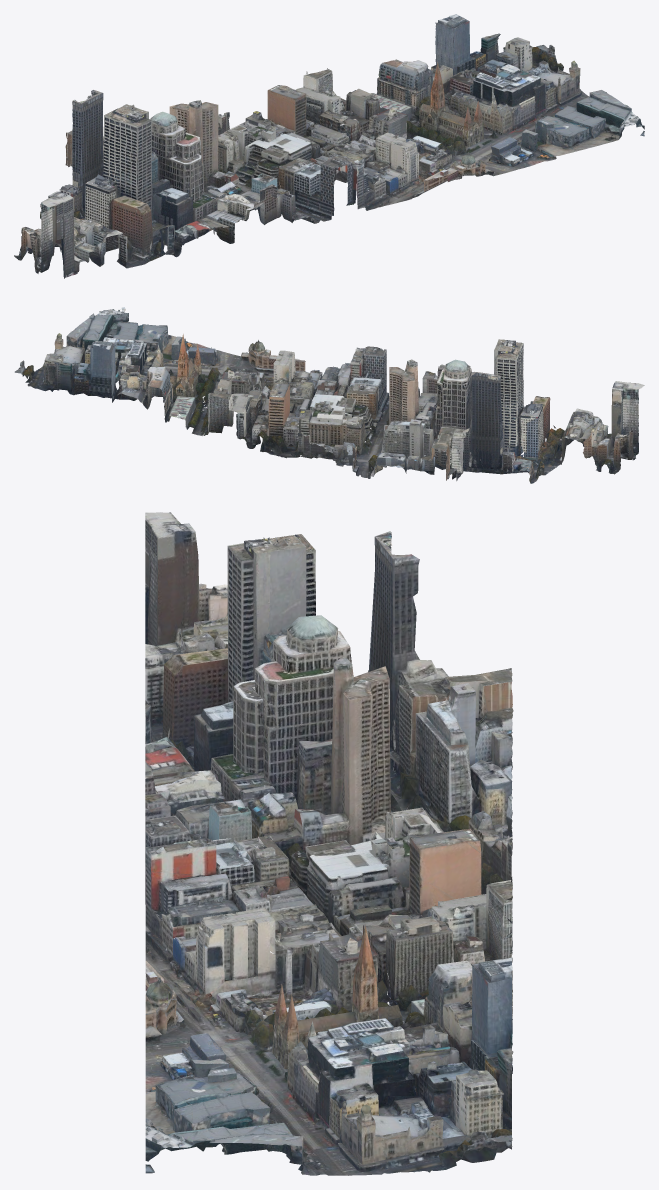
File: flinders-street-context.glb
The picture shows the model from 3 angles, top to bottom: view 1: azimuth 30°, elevation 25°; view 2: azimuth 150°, elevation 25°; view 3: azimuth 270°, elevation 25°; orthographic projection. The views are drawn at different scales.
Parts seen in each view (by area): view 1: I3S 90514, I3S 179837, I3S 196149, I3S 198529, I3S 178250, I3S 200263, I3S 184574, I3S 199208, I3S 175192, I3S 91824; view 2: I3S 184574, I3S 198529, I3S 175192, I3S 196149, I3S 90514, I3S 179837, I3S 200263, I3S 199208, I3S 91824, I3S 178250; view 3: I3S 184574, I3S 90514, I3S 196149, I3S 198529, I3S 178250, I3S 179837, I3S 199208, I3S 200263, I3S 91824, I3S 175192.
Part boxes in pixels (x1,y1,x2,y2): I3S 90514: [435, 14, 609, 144]; I3S 179837: [14, 114, 169, 278]; I3S 196149: [303, 59, 491, 161]; I3S 198529: [218, 75, 374, 189]; I3S 178250: [133, 110, 287, 257]; I3S 200263: [258, 153, 406, 223]; I3S 184574: [65, 90, 251, 194]; I3S 199208: [371, 133, 524, 200]; I3S 175192: [40, 93, 136, 222]; I3S 91824: [491, 95, 644, 167]; I3S 184574: [336, 342, 507, 481]; I3S 198529: [228, 382, 389, 463]; I3S 175192: [474, 343, 561, 483]; I3S 196149: [121, 334, 289, 435]; I3S 90514: [14, 329, 177, 402]; I3S 179837: [507, 340, 644, 474]; I3S 200263: [294, 346, 429, 424]; I3S 199208: [194, 340, 314, 389]; I3S 91824: [75, 307, 211, 370]; I3S 178250: [418, 339, 533, 412]; I3S 184574: [263, 537, 513, 855]; I3S 90514: [263, 957, 513, 1175]; I3S 196149: [263, 876, 512, 1074]; I3S 198529: [263, 807, 512, 950]; I3S 178250: [145, 542, 270, 839]; I3S 179837: [145, 512, 269, 751]; I3S 199208: [145, 908, 270, 1074]; I3S 200263: [145, 800, 269, 974]; I3S 91824: [145, 1046, 269, 1173]; I3S 175192: [263, 531, 391, 749].
Bounding box in the file's own units: 804 × 166 × 237.
Materials: 10 (10 with a texture image).
